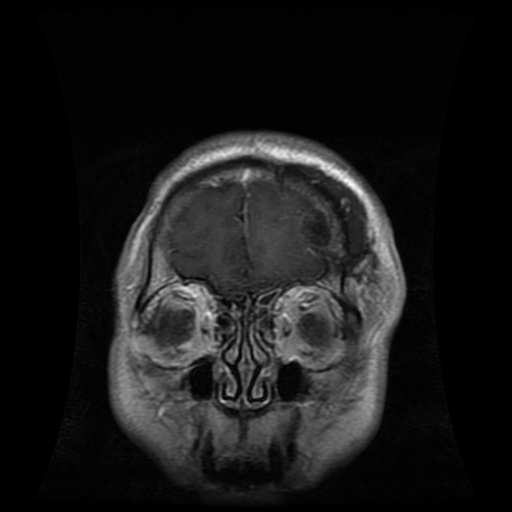glioma: (300, 207, 332, 247)
